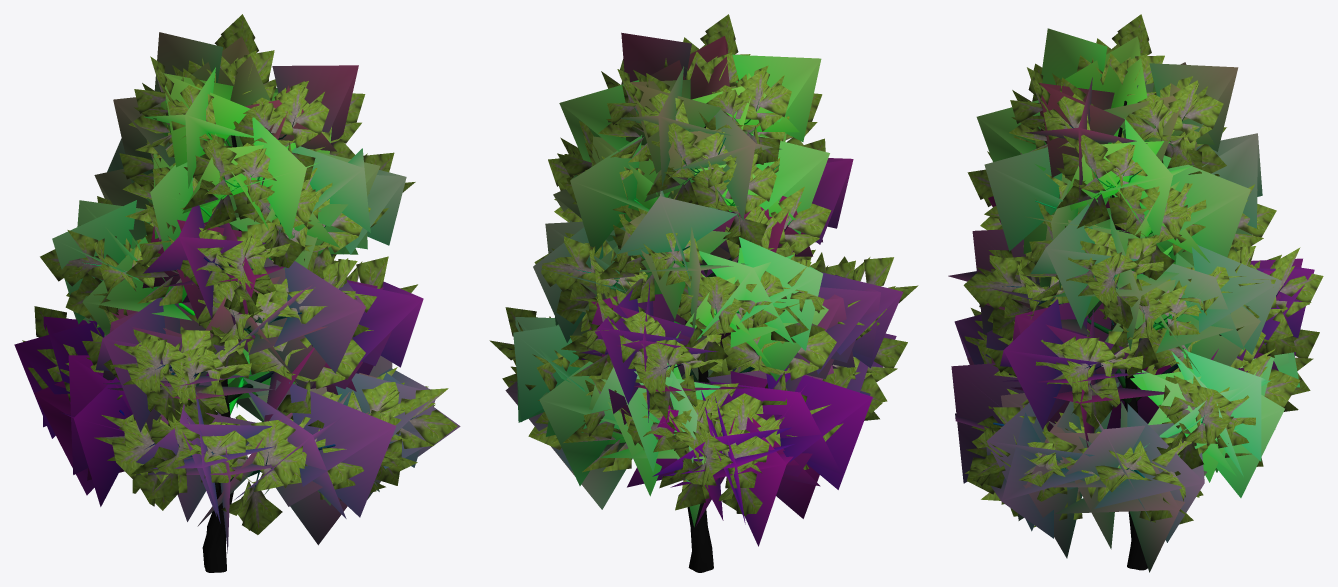
The model's file is BeechTreeGen02_04h.fbx.
3 renders of one model, left to right at view 1: azimuth 30°, elevation 25°; view 2: azimuth 150°, elevation 25°; view 3: azimuth 270°, elevation 25°, orthographic. The views are drawn at different scales.
Visible parts, largest first — view 1: Tree_1, Tree_2, Tree_0; view 2: Tree_1, Tree_2, Tree_0; view 3: Tree_1, Tree_2, Tree_0.
Part boxes in pixels (left/top/right/bottom): Tree_1: left=14, top=32, right=460, bottom=553; Tree_2: left=22, top=14, right=457, bottom=534; Tree_0: left=82, top=100, right=416, bottom=572; Tree_1: left=505, top=32, right=903, bottom=546; Tree_2: left=489, top=14, right=918, bottom=516; Tree_0: left=573, top=100, right=791, bottom=572; Tree_1: left=948, top=28, right=1314, bottom=572; Tree_2: left=953, top=14, right=1323, bottom=527; Tree_0: left=993, top=100, right=1282, bottom=570.
Bounding box in the file's own units: 59.89 × 88.67 × 58.12.
